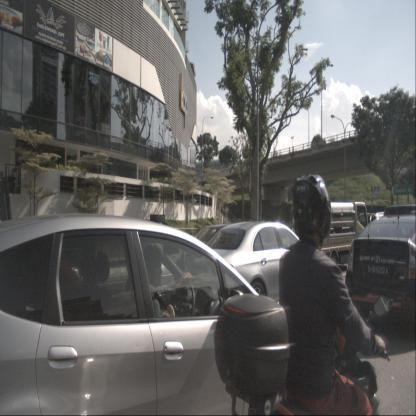human-pedestrian-adult: (89, 166, 92, 178)
vehicle-car: (0, 213, 329, 415), (190, 221, 332, 311), (344, 214, 416, 337)
vehicle-motorcycle: (214, 174, 394, 416)
vehicle-truck: (290, 200, 369, 276)
